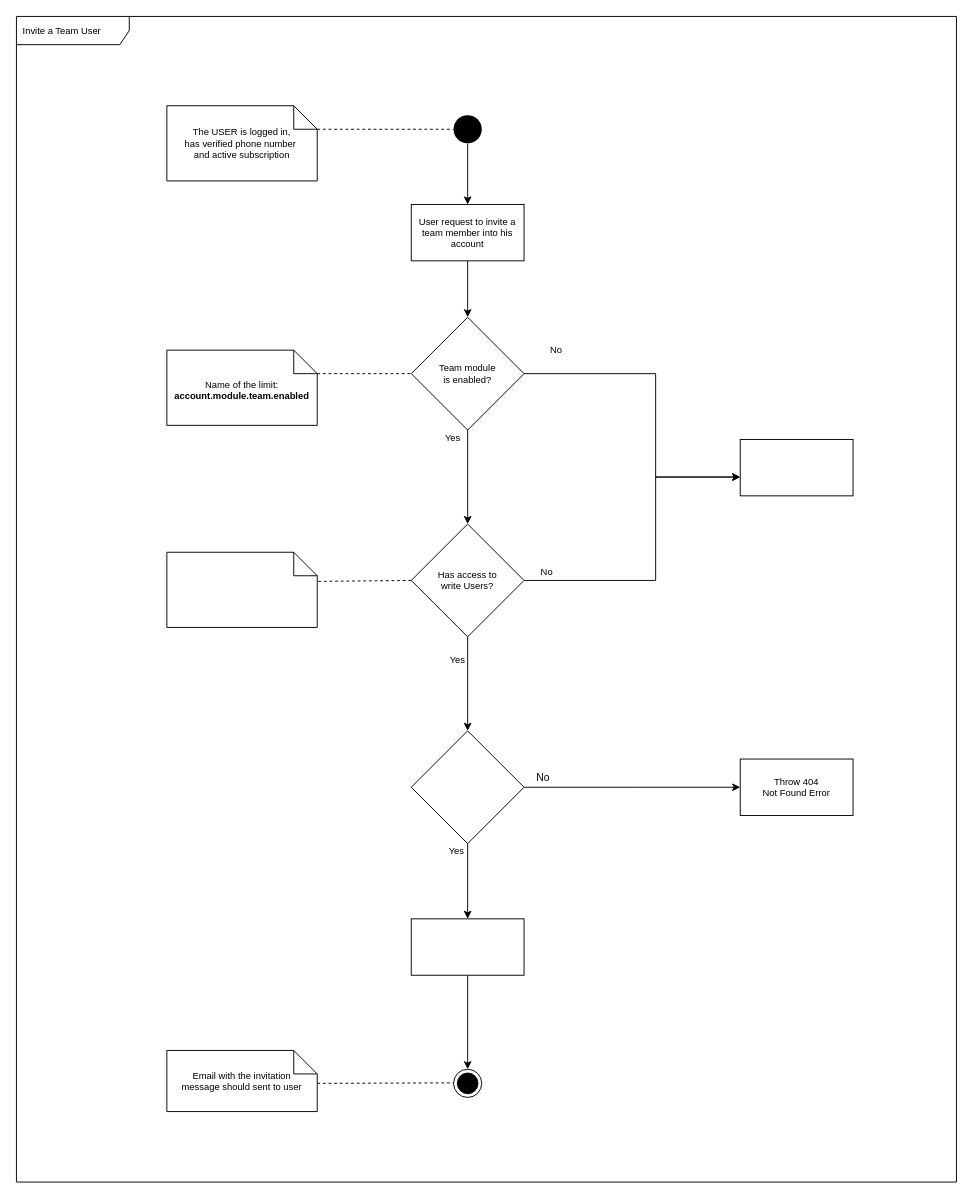
This 973x1199 diagram has some shape labels left out. Here are the shapes that lost their labels. From the top down, the centre of each, then its label:
At pixel 796 467: "Throw 403 Forbidden Error".
At pixel 241 589: "The User should be an account owner or should has users:write permissions".
At pixel 467 787: "Is user exists?".
At pixel 467 946: "Send invitation link to requested user".
